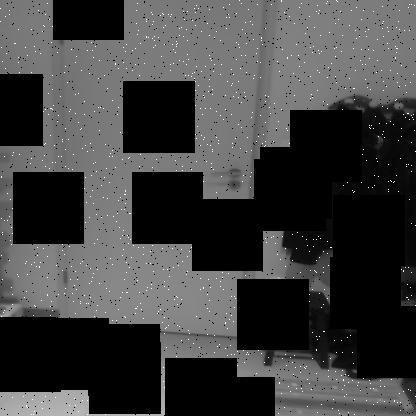Porte: (46, 0, 281, 341)
